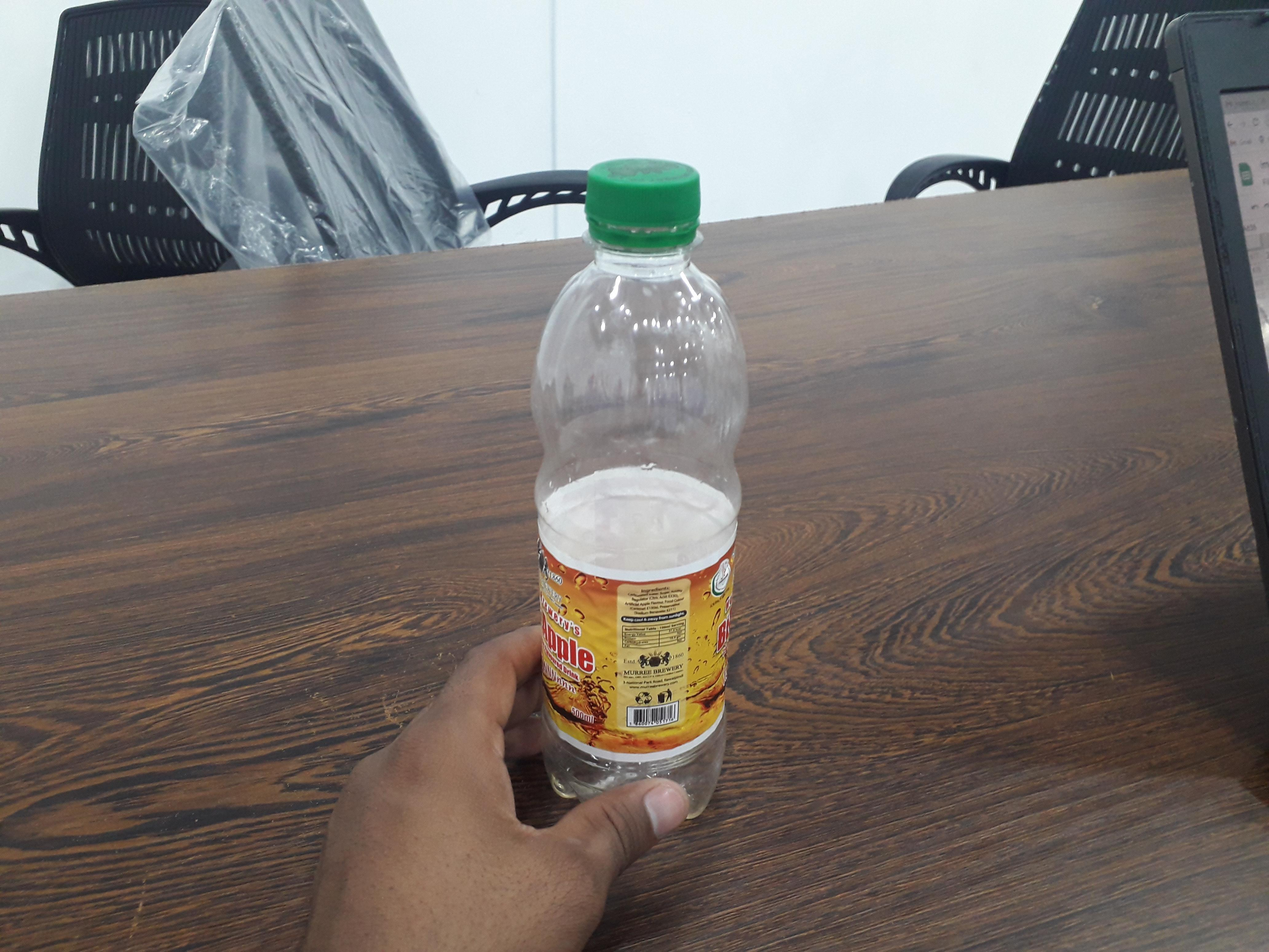bottle-plastic: (528, 158, 750, 825)
